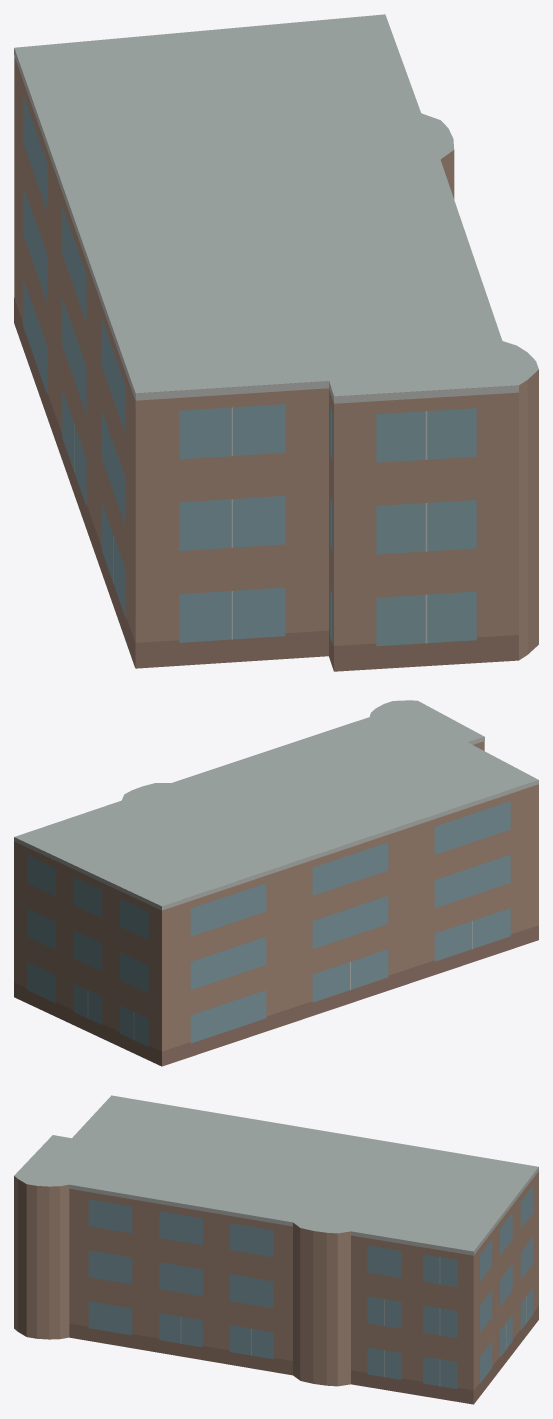
Rendered from survey-upis-32513295.glb.
3 renders of one model, top to bottom at view 1: azimuth 30°, elevation 25°; view 2: azimuth 150°, elevation 25°; view 3: azimuth 270°, elevation 25°, orthographic. The views are drawn at different scales.
Parts seen in each view (by area): view 1: survey-upis-32513295.tmp; view 2: survey-upis-32513295.tmp; view 3: survey-upis-32513295.tmp.
Part boxes in pixels (x1,y1,x2,y2): survey-upis-32513295.tmp: (14, 14, 538, 671); survey-upis-32513295.tmp: (14, 700, 538, 1066); survey-upis-32513295.tmp: (14, 1095, 538, 1404).
Size of the model in its own units: 20.04 by 9.15 by 28.46.
